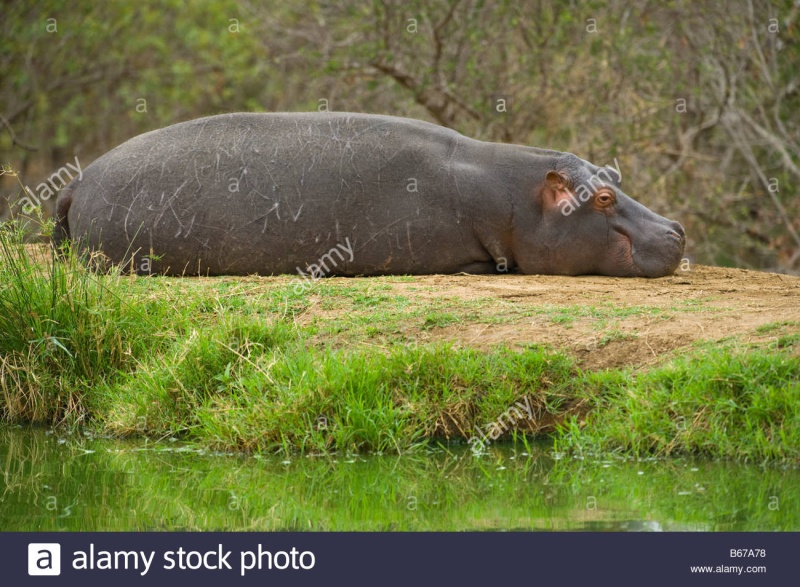hipopotamo: (38, 111, 687, 282)
